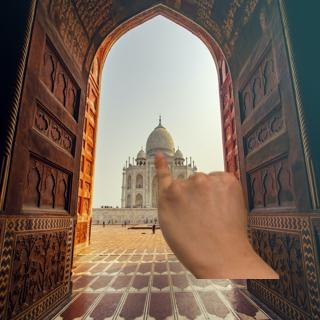FINE: (149, 149, 259, 273)
